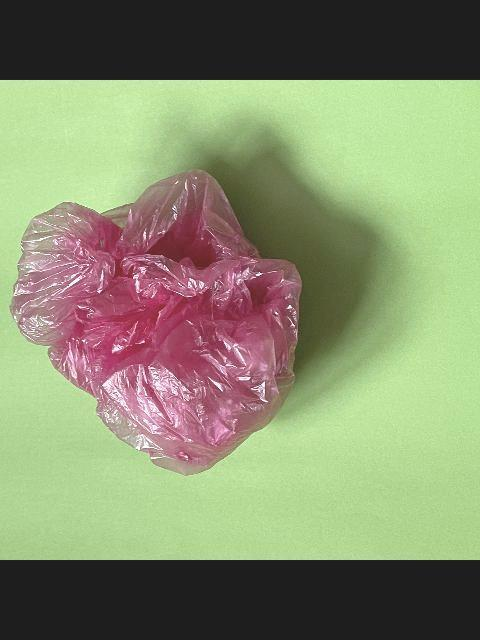plasticbag: (7, 170, 303, 474)
